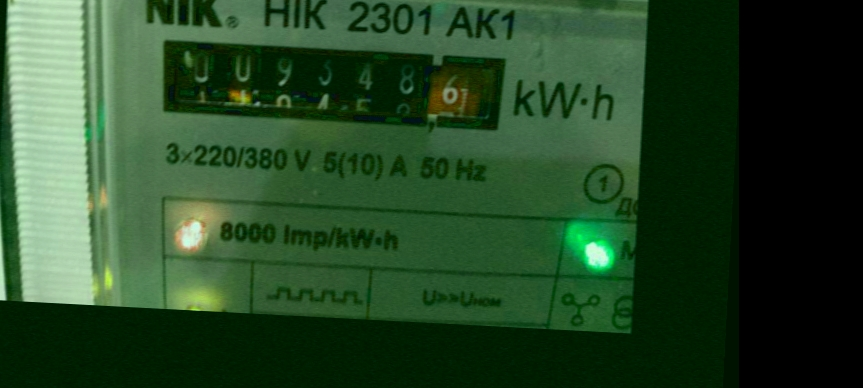0: (229, 47, 252, 84), (188, 47, 210, 83)
3: (311, 52, 335, 85)
4: (351, 54, 374, 92)
6: (437, 69, 461, 104)
8: (394, 59, 416, 94)
9: (272, 50, 292, 85)
screen: (134, 22, 524, 144)
